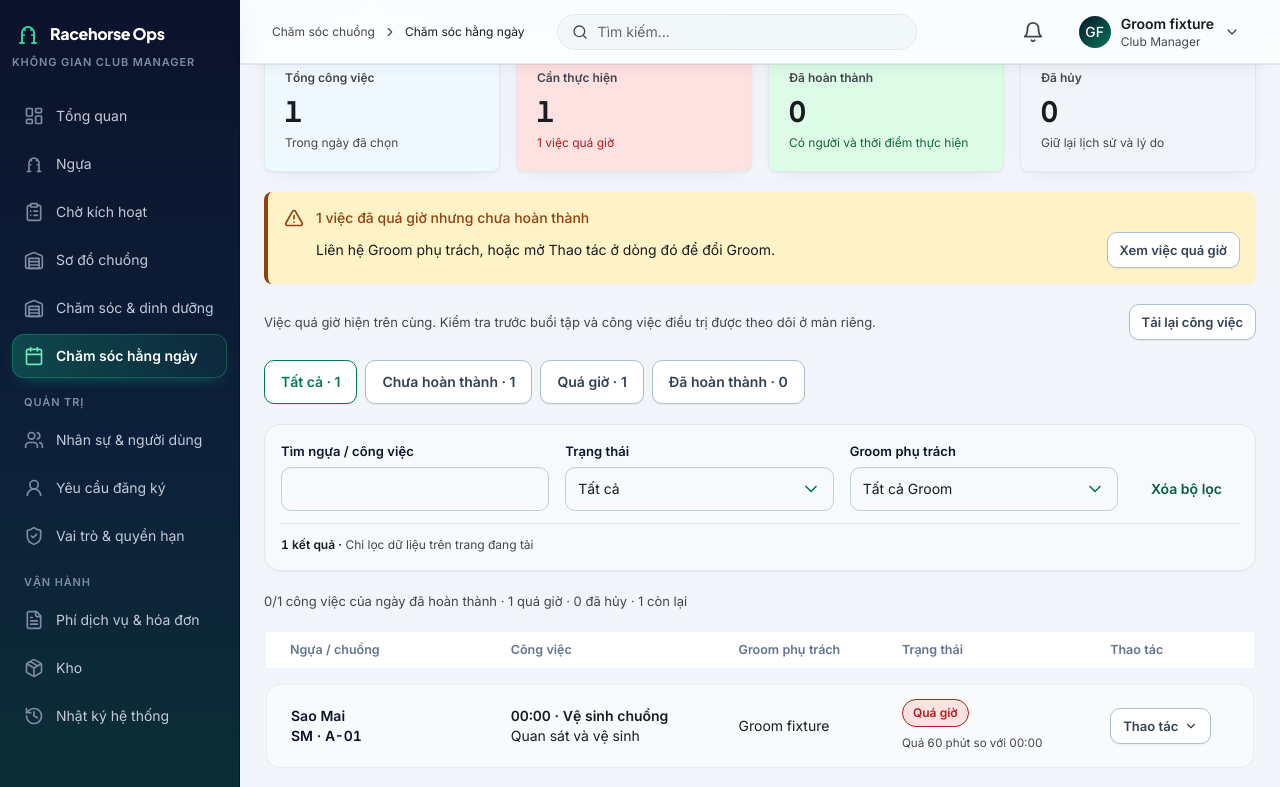
Test: Flow 4 API-only UI › preserves cancellation reason and shows no success after a conflict
(page scrolled)
Click the button "Thao tác".
click(1161, 726)  # box [1110,708,1211,744]
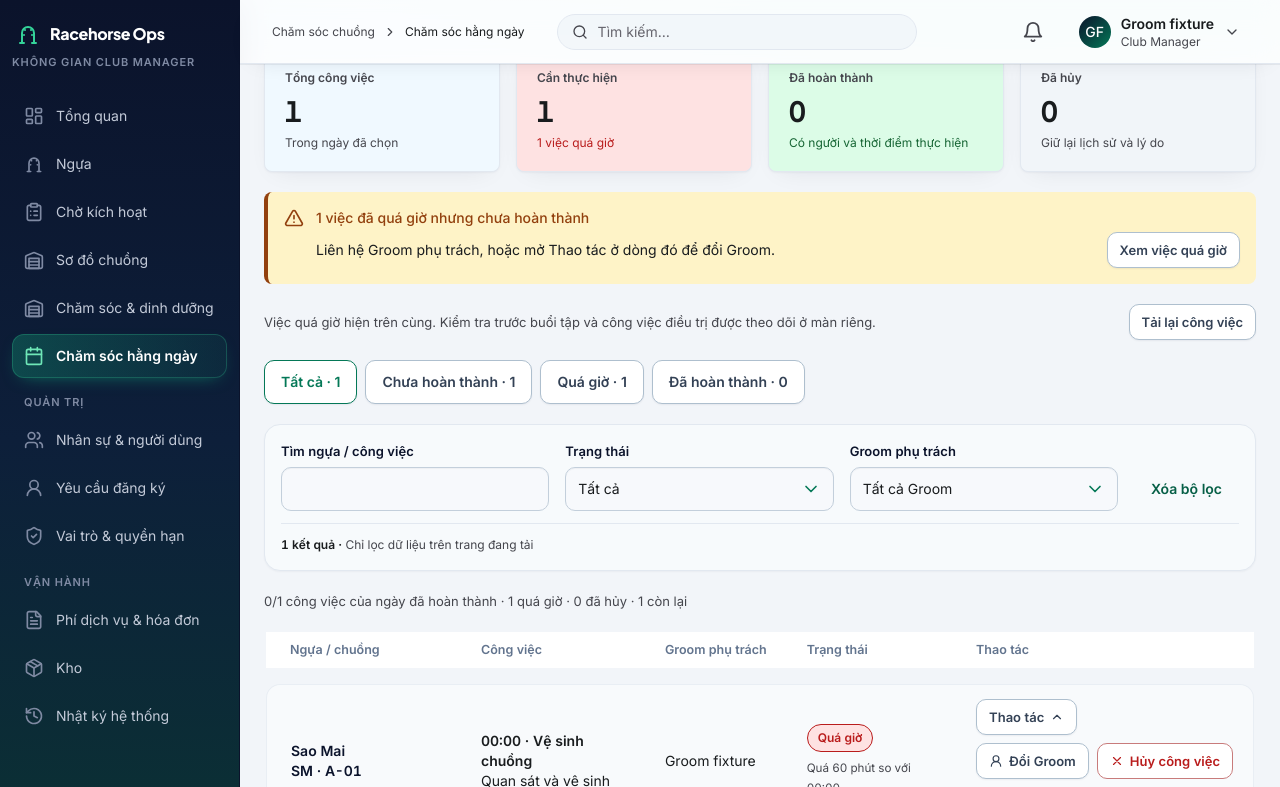
Click the button "Hủy công việc".
click(1165, 761)  # box [1097,743,1233,779]
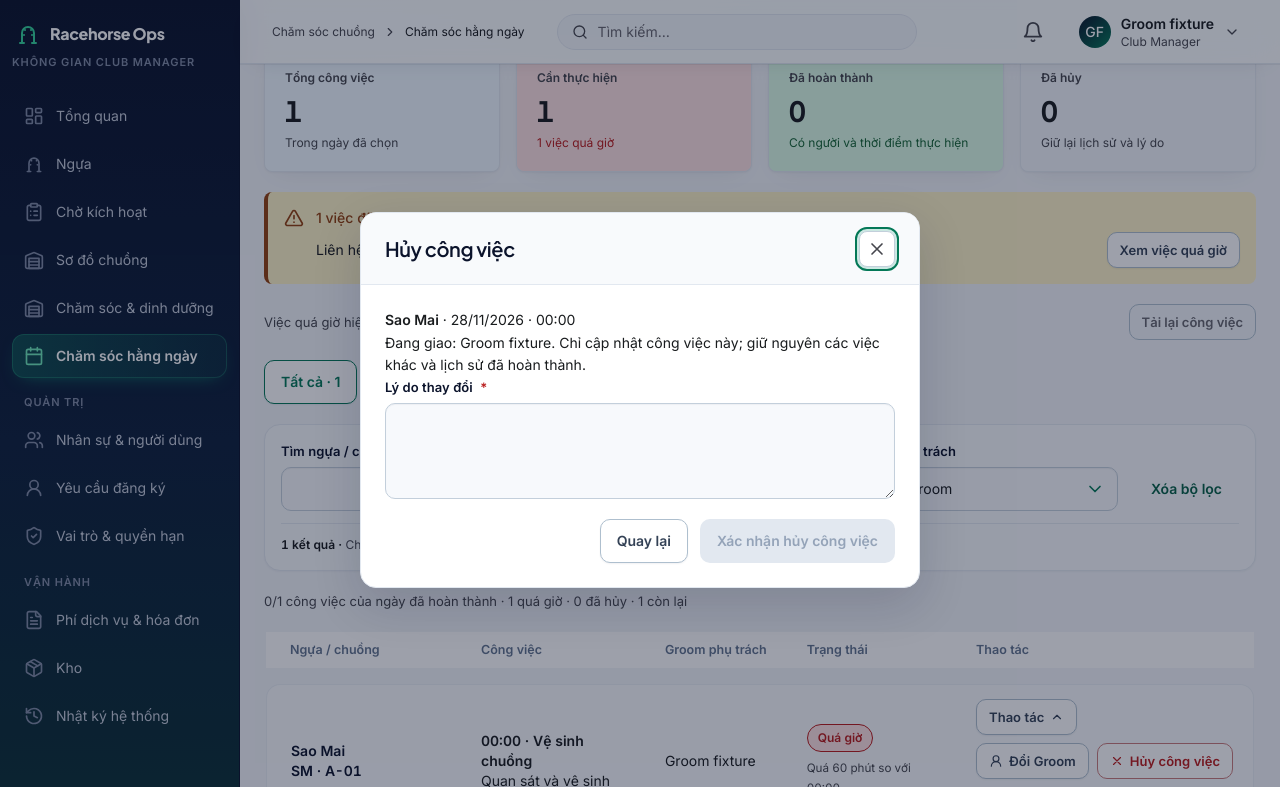
Type "Giữ lý do" into the text box labelled "Lý do thay đổi".
click(640, 451); type("Giữ lý do")  # box [385,403,895,499]
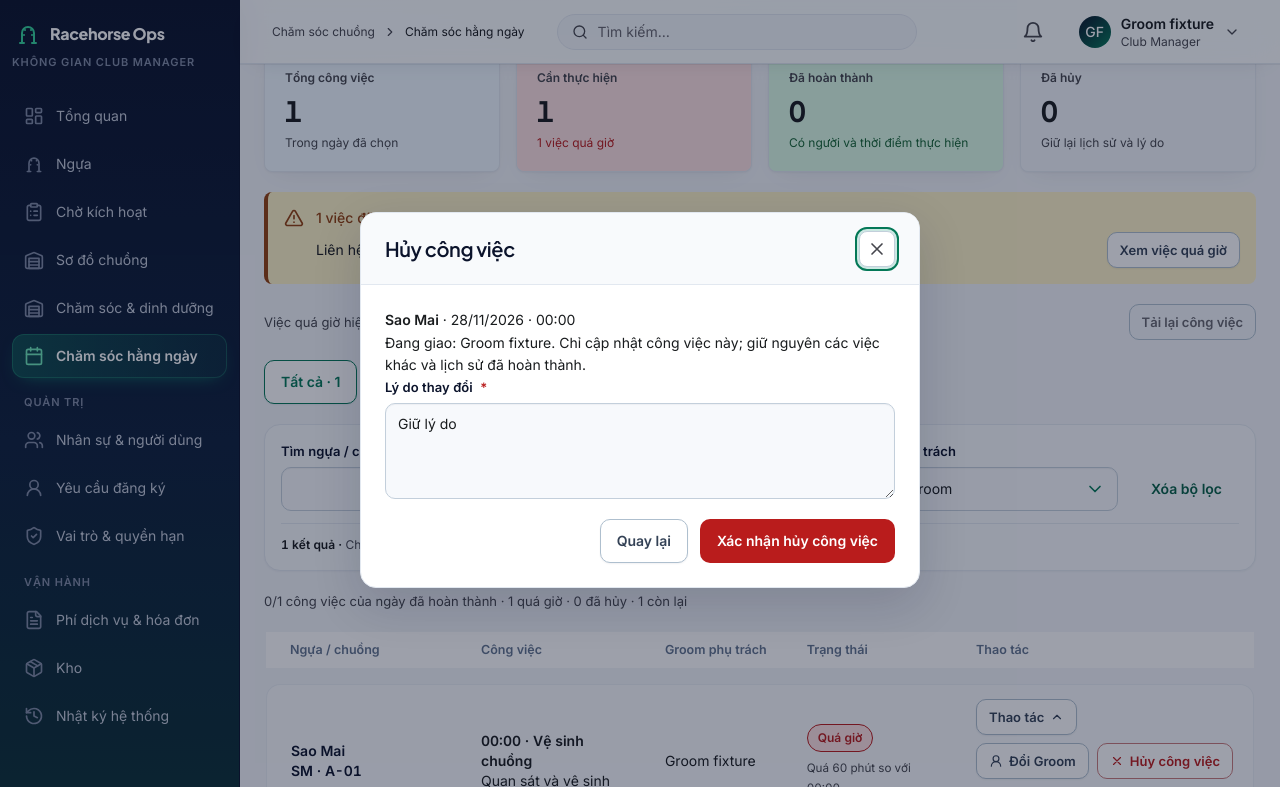
Click the button "Xác nhận hủy công việc".
click(798, 541)  # box [700,519,895,563]
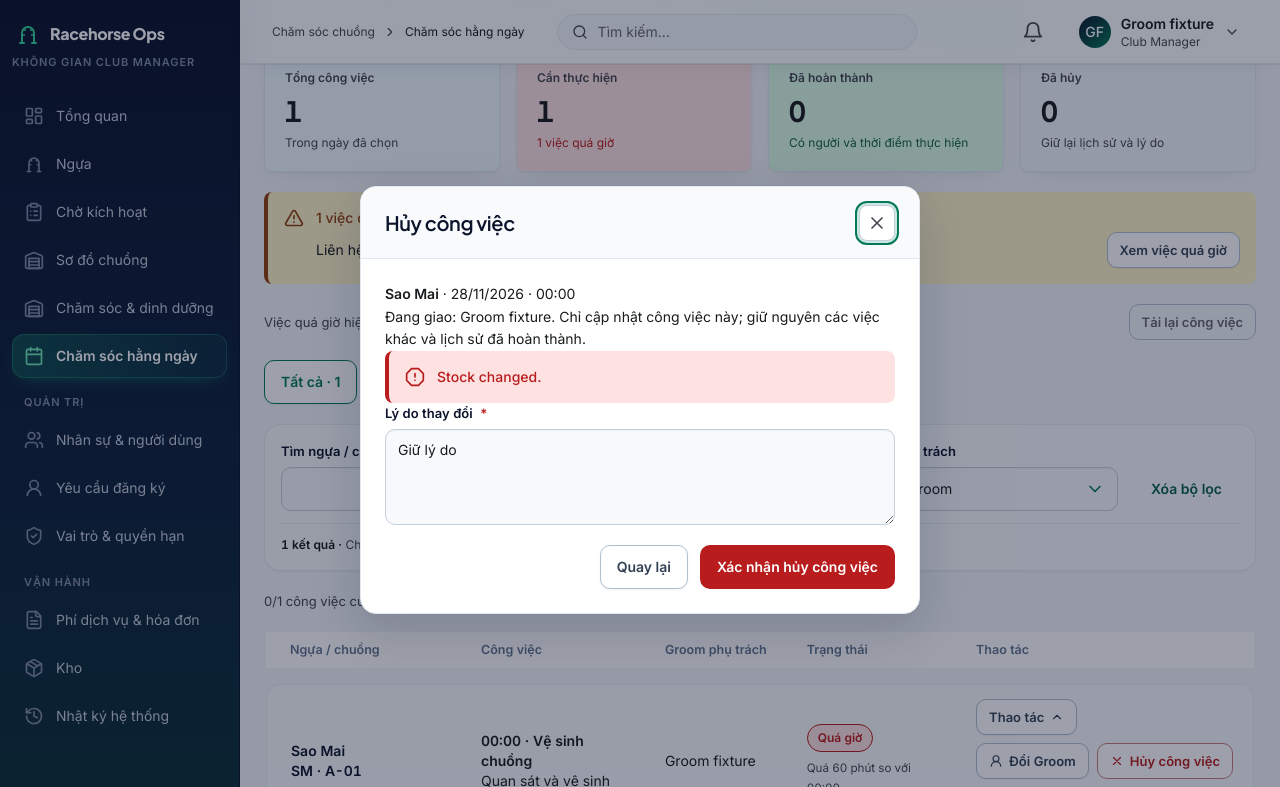
Result: the text "Stock changed." is shown at [437,368,542,385]
